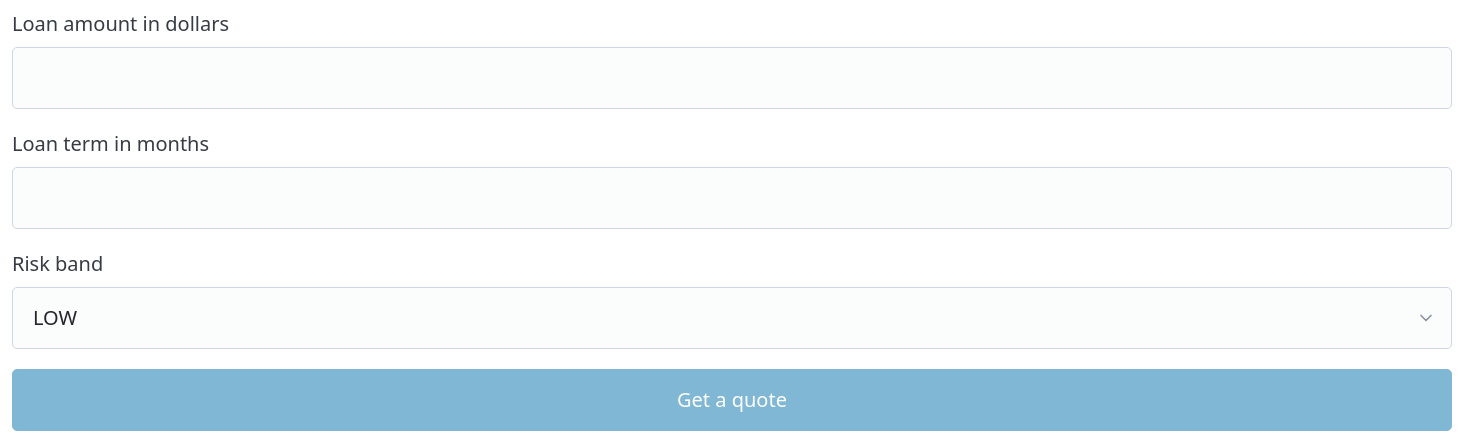
Test: the quote form › disables the submit control until both text fields hold a value
This screenshot has width=1464, height=448.
Check: the button is disabled, box [12, 368, 1452, 430]
In the number field labelled "Loan amount in dollars": coordinates (732, 78) [12, 46, 1452, 109], type "5000"
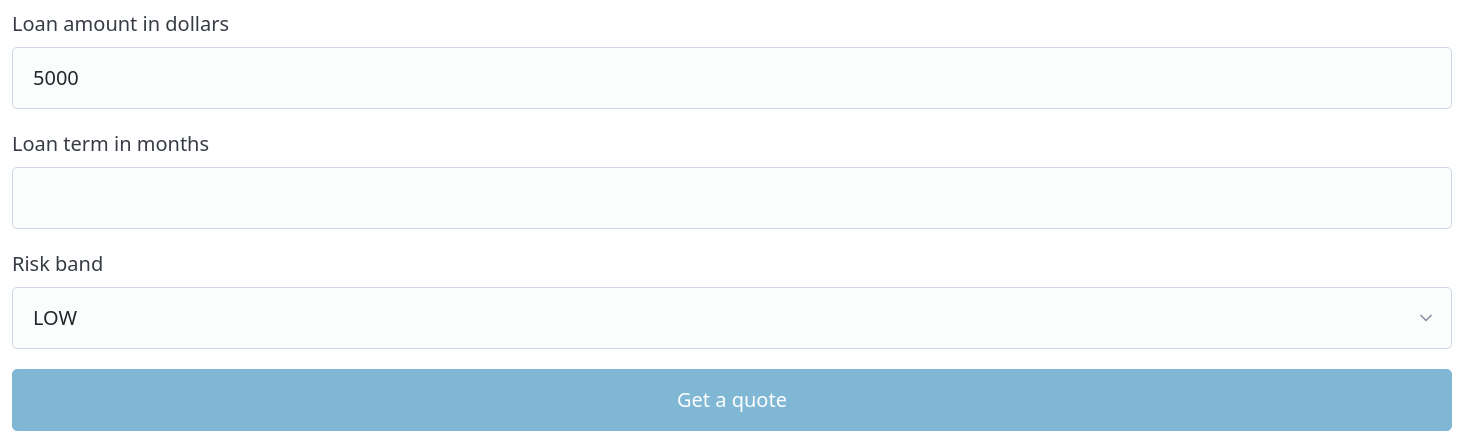
Check: the button is disabled, box [12, 368, 1452, 430]
In the number field labelled "Loan term in months": coordinates (732, 198) [12, 166, 1452, 229], type "24"
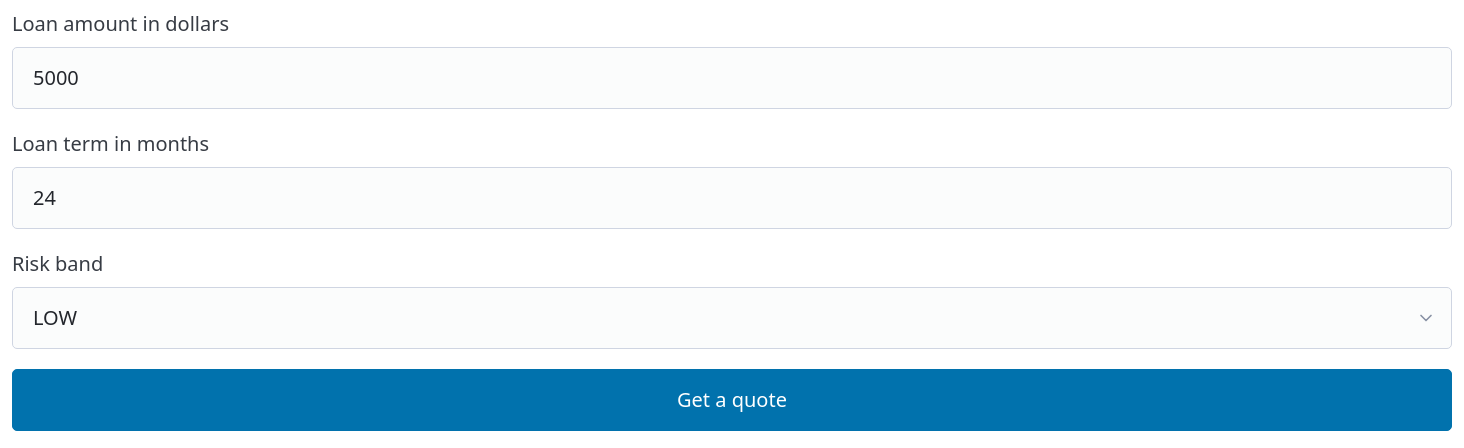
Check: the button is enabled, box [12, 368, 1452, 430]
